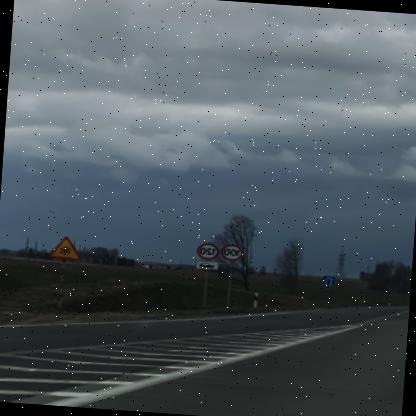speedlimit: (198, 241, 222, 258), (224, 243, 246, 261)
